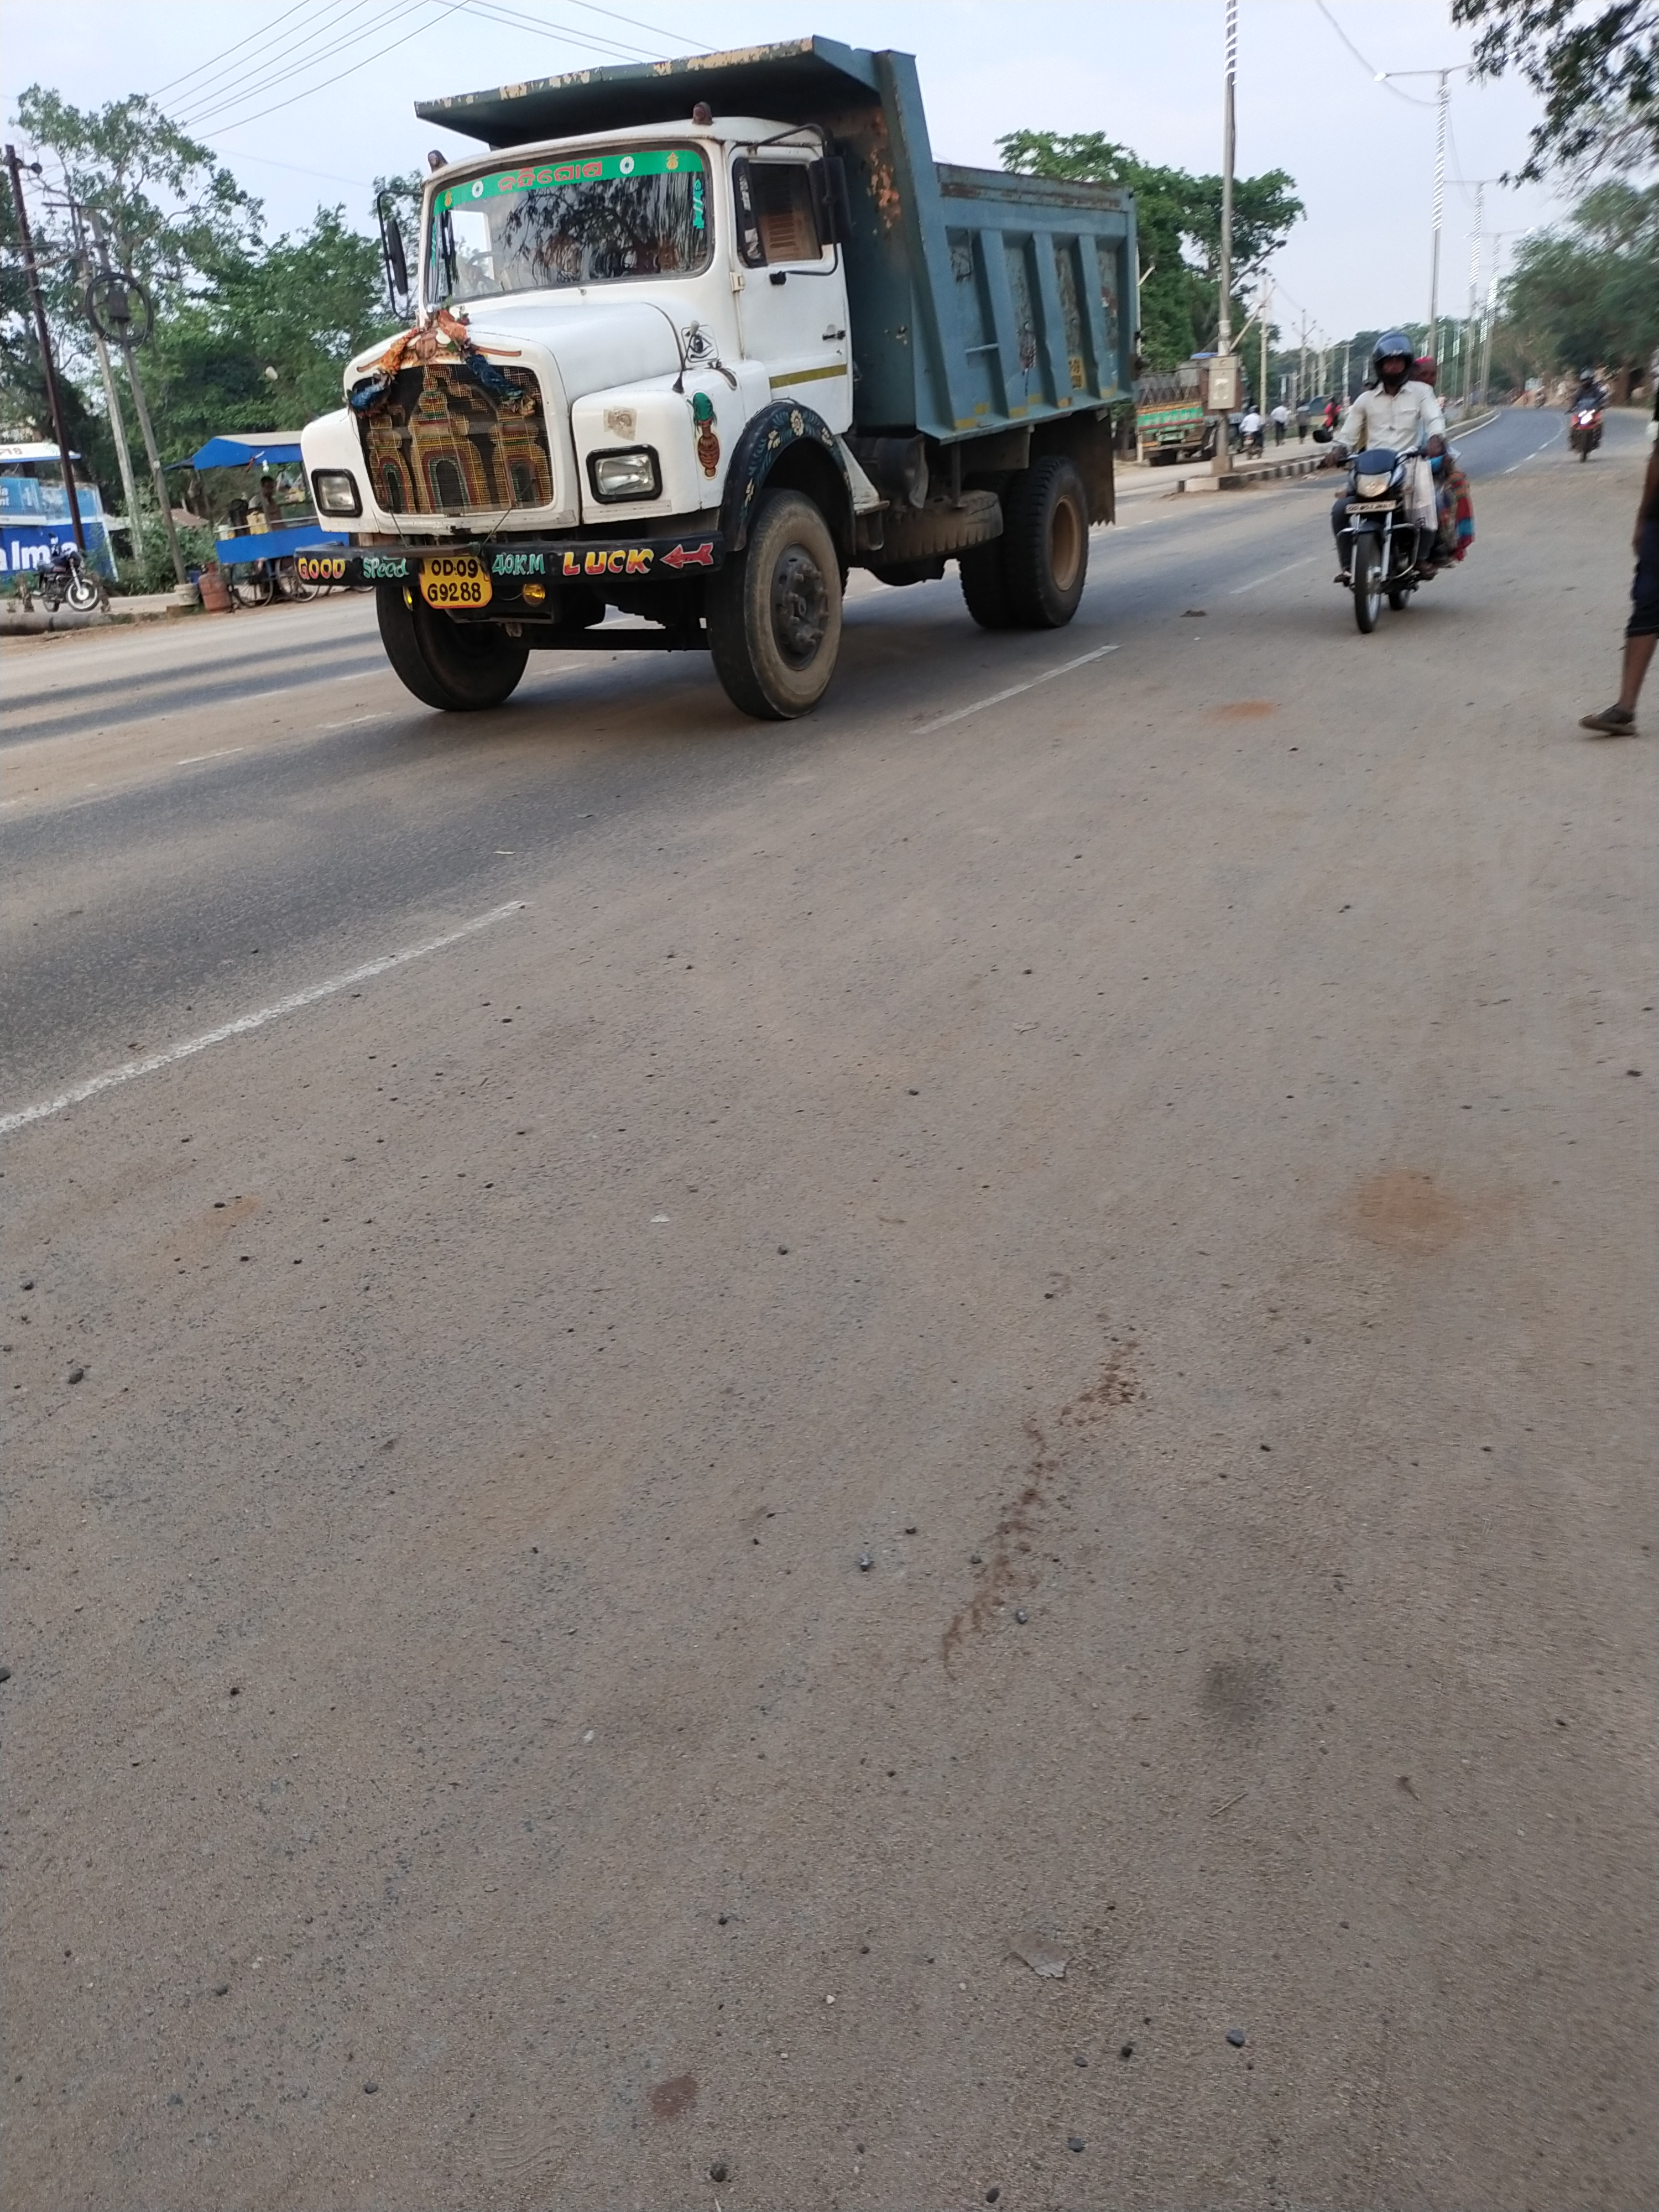truck: (289, 30, 1157, 723), (1134, 350, 1255, 469)
